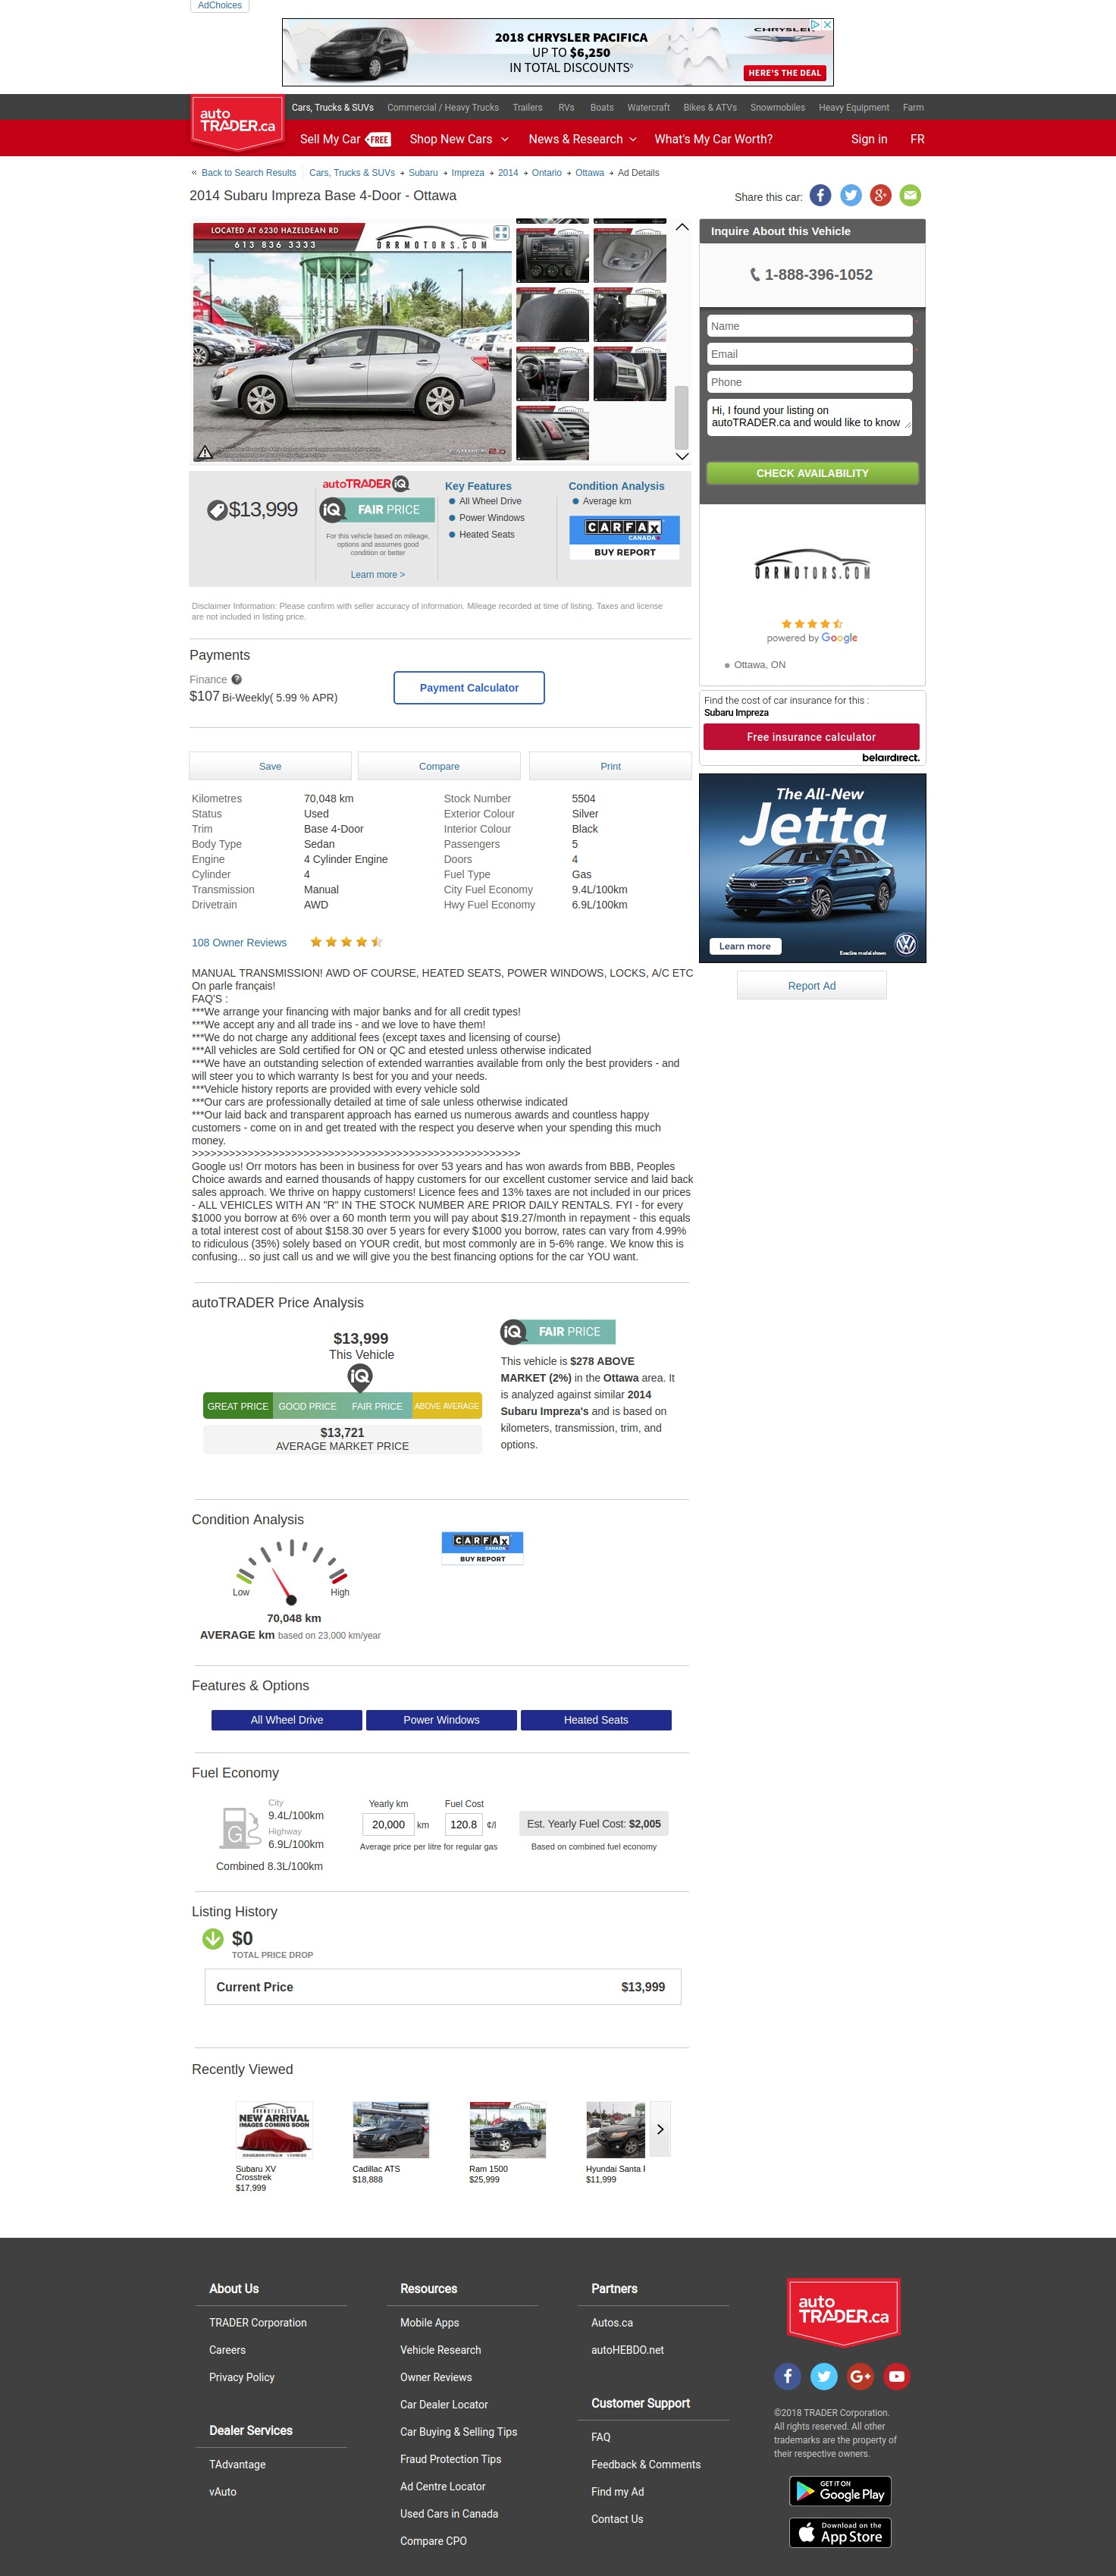car: (674, 452, 692, 463)
